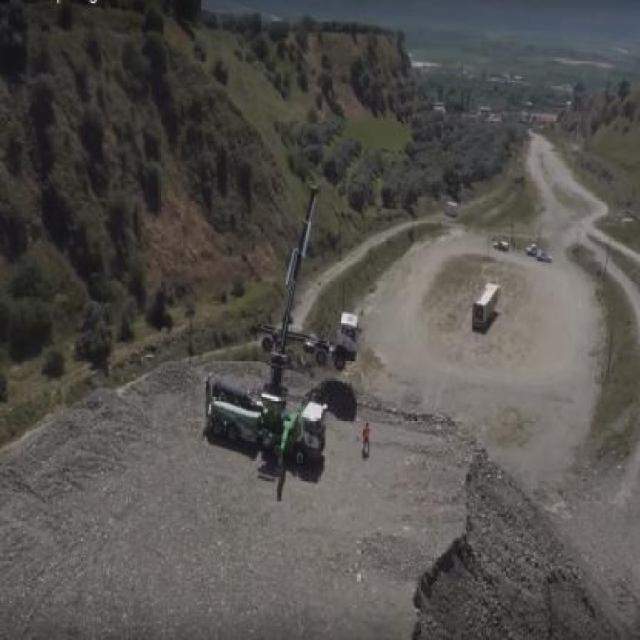Mobile Crane: (205, 189, 326, 503)
